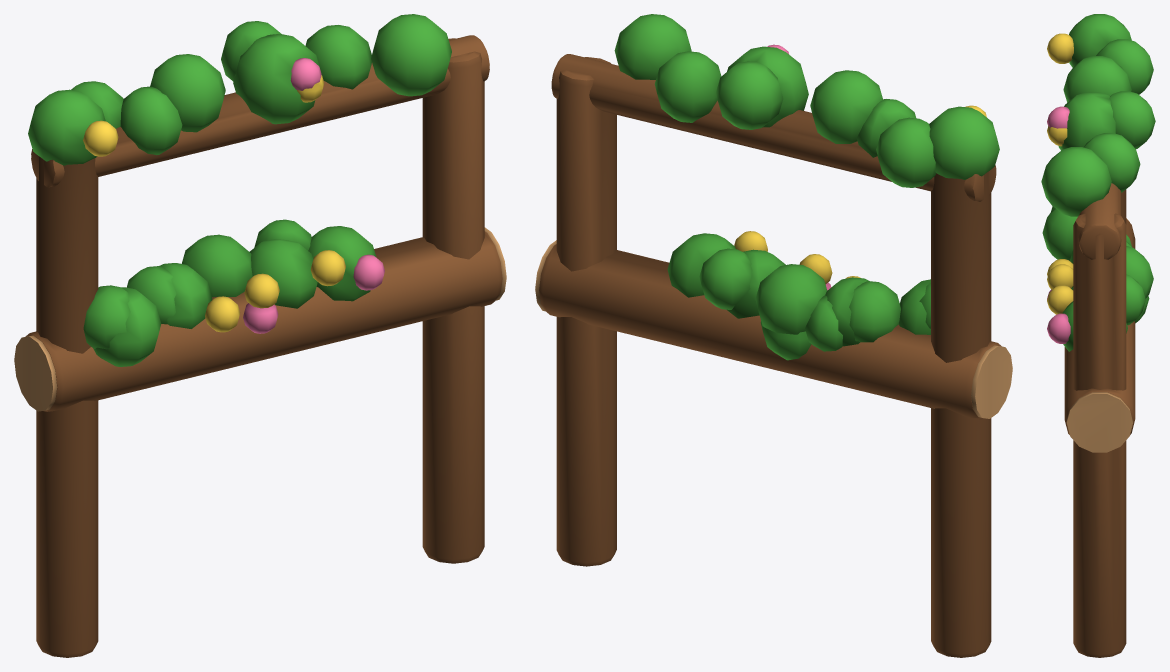
File: bl_arch.glb
3 views of the same model, side by side, from view 1: azimuth 30°, elevation 25°; view 2: azimuth 150°, elevation 25°; view 3: azimuth 270°, elevation 25° (orthographic). The views are drawn at different scales.
Visible parts, largest first — view 1: flower_arch; view 2: flower_arch; view 3: flower_arch.
Boxes of the visible parts, <box> form: flower_arch: <box>14,14,506,657</box>; flower_arch: <box>535,14,1012,657</box>; flower_arch: <box>1041,14,1155,657</box>.
Bounding box in the file's own units: 2.02 × 2.4 × 0.5178.
